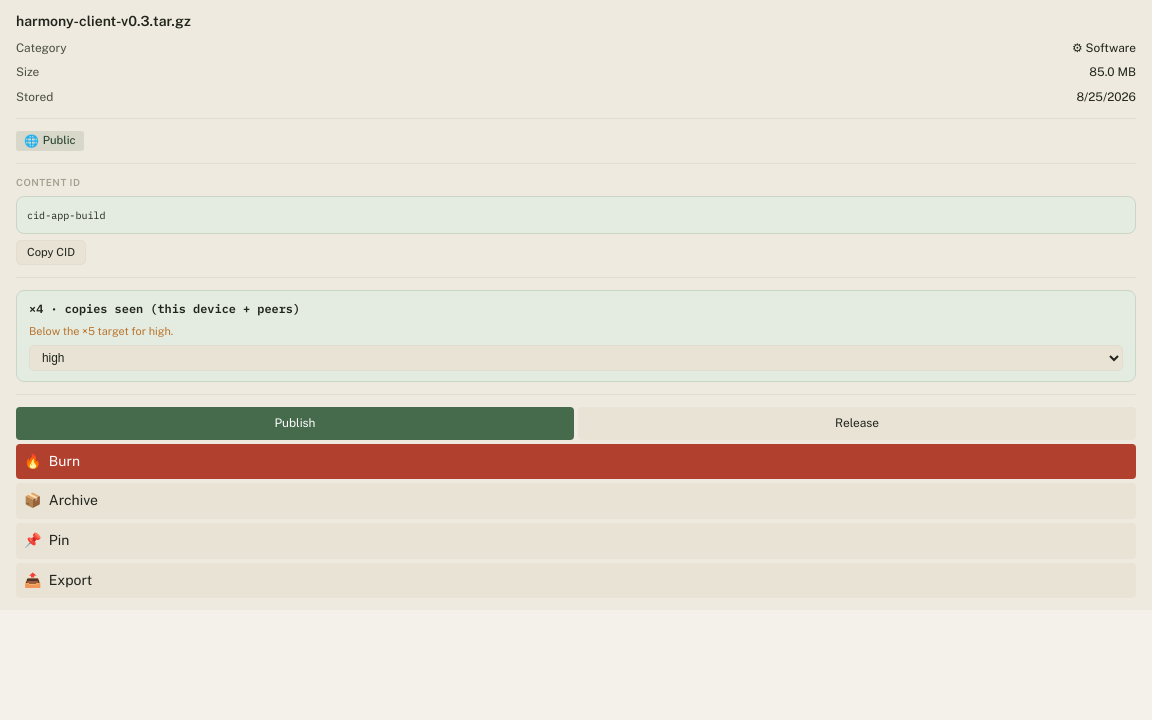
Test: File Manager Integration › accessibility › confirmation dialogs have role="dialog" and aria-modal
Click the button with aria-label "Publish (permanent)" at (295, 423), box x1=16 y1=407 x2=574 y2=440
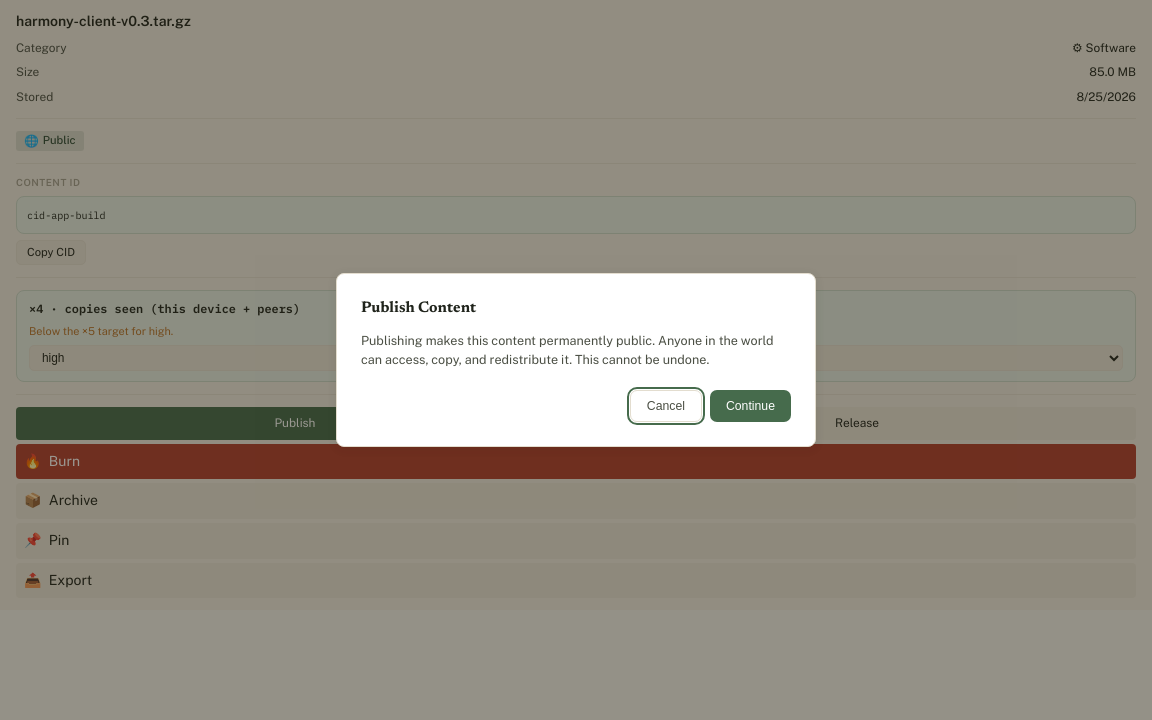
Now the dialog is shown, box x1=336 y1=273 x2=816 y2=447
